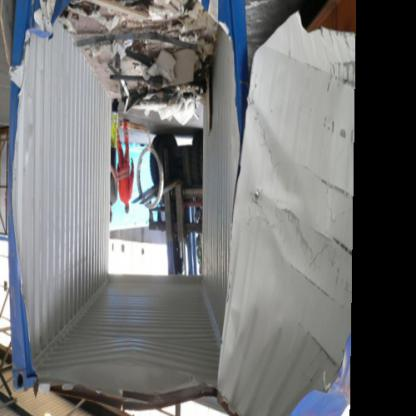Damage: (4, 5, 350, 396)
